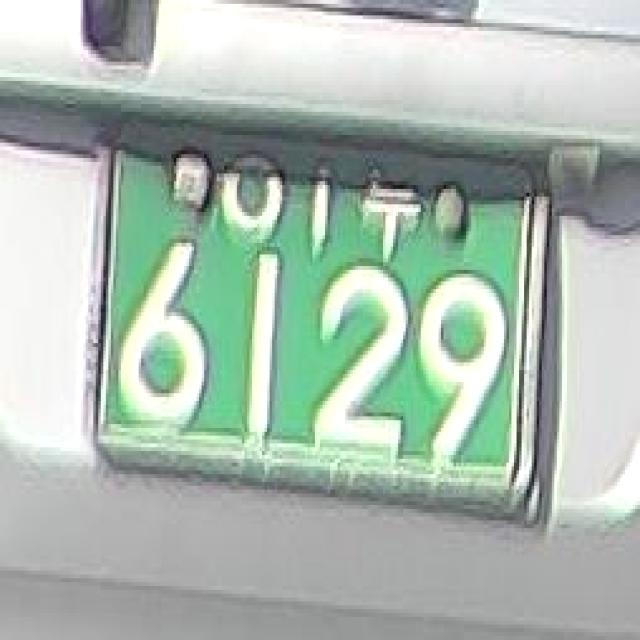illegal_plate: (67, 88, 571, 556)
